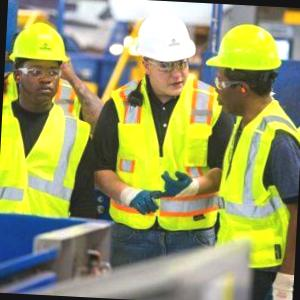helmet: (127, 9, 206, 70), (204, 20, 285, 79), (9, 16, 74, 68)
person: (90, 8, 220, 266), (197, 19, 300, 300), (0, 17, 100, 225)
